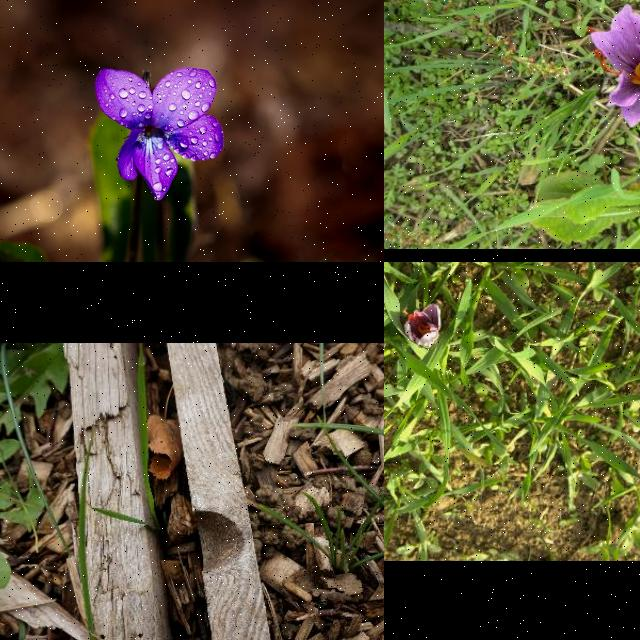flower: (586, 5, 640, 127), (404, 303, 442, 349)
